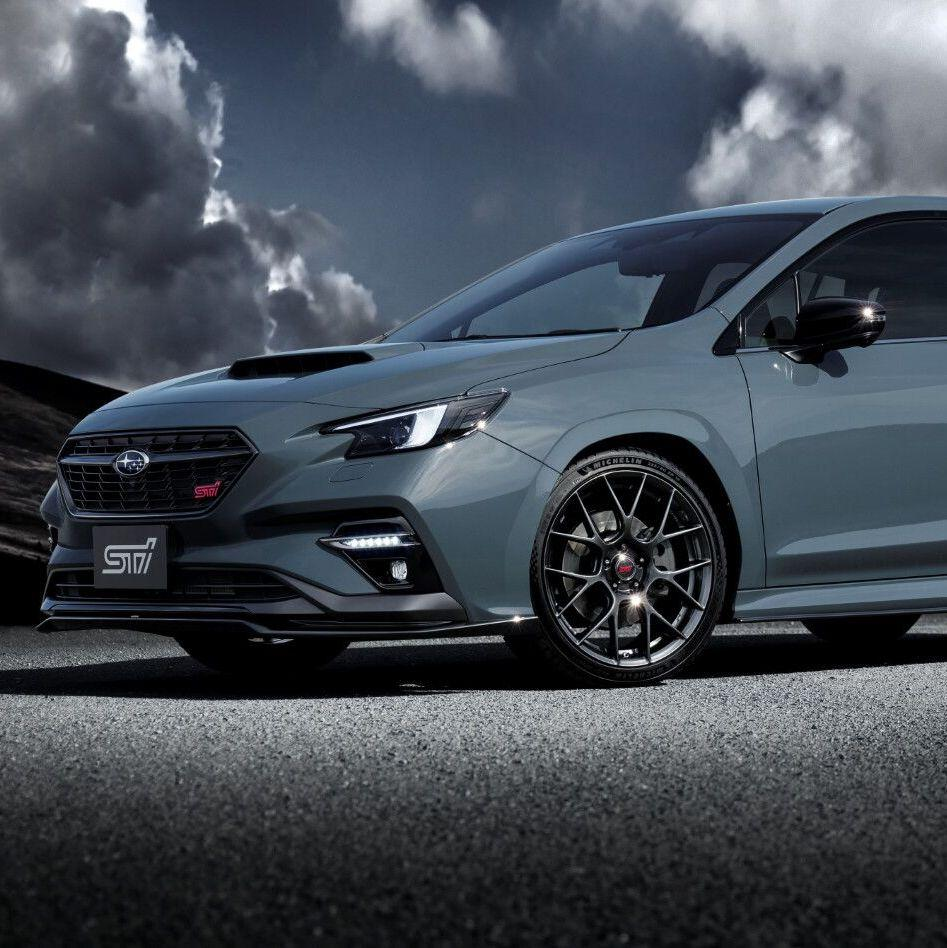subaru: (102, 434, 161, 485)
